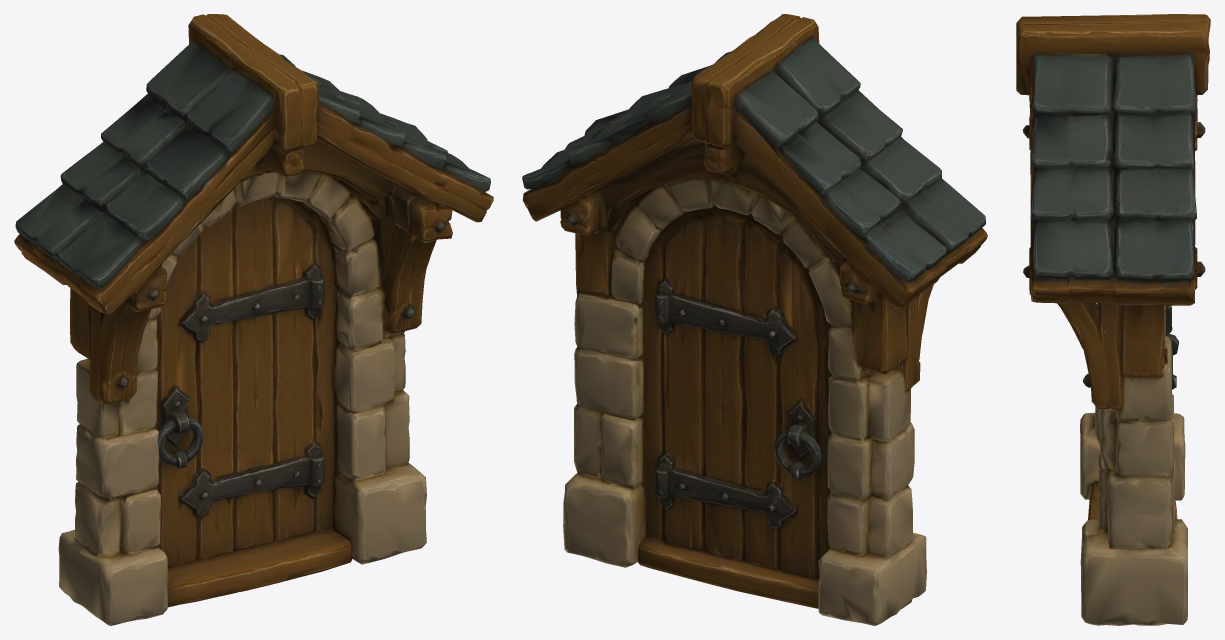
Rendered from mod_door_f.glb.
3 views of the same model, side by side, from view 1: azimuth 30°, elevation 25°; view 2: azimuth 150°, elevation 25°; view 3: azimuth 270°, elevation 25° (orthographic).
Parts seen in each view (by area): view 1: tripo_node_13969c92-074d-45b0-b96c-2b977dfc9475; view 2: tripo_node_13969c92-074d-45b0-b96c-2b977dfc9475; view 3: tripo_node_13969c92-074d-45b0-b96c-2b977dfc9475.
Part boxes in pixels (box(x1,y1,x2,y2)): tripo_node_13969c92-074d-45b0-b96c-2b977dfc9475: box(14, 14, 493, 625); tripo_node_13969c92-074d-45b0-b96c-2b977dfc9475: box(522, 14, 987, 625); tripo_node_13969c92-074d-45b0-b96c-2b977dfc9475: box(1016, 14, 1210, 625).
Size of the model in its own units: 0.7738 by 0.9788 by 0.3255.
Materials: 1 (1 with a texture image).
